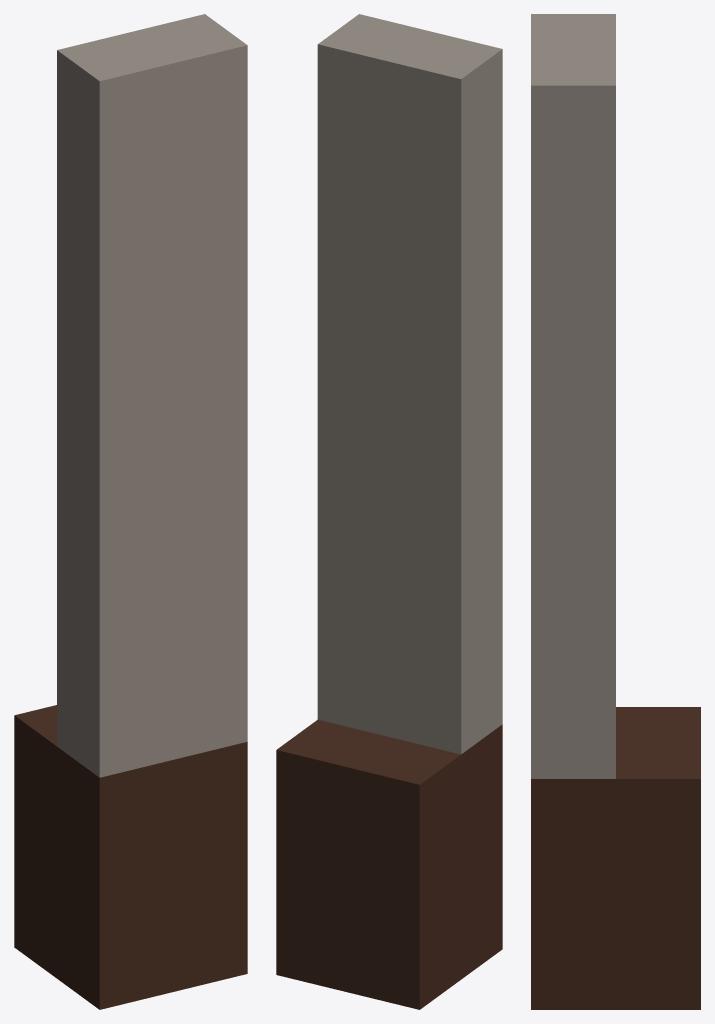
The model's file is donkey__tail.glb.
3 views of the same model, side by side, from view 1: azimuth 30°, elevation 25°; view 2: azimuth 150°, elevation 25°; view 3: azimuth 270°, elevation 25° (orthographic). The views are drawn at different scales.
Parts seen in each view (by area): view 1: donkey__tail; view 2: donkey__tail; view 3: donkey__tail.
Boxes of the visible parts, x1,y1,x2,y2 form: donkey__tail: [14, 14, 247, 1009]; donkey__tail: [276, 14, 502, 1009]; donkey__tail: [531, 14, 700, 1009].
Bounding box in the file's own units: 0.2 × 1.2 × 0.2.
1 material, 1 textured.
